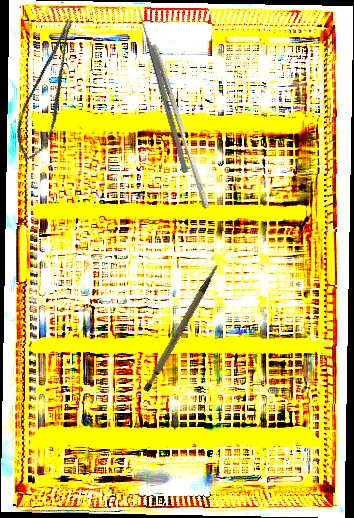Micro Scissor: (4, 16, 98, 165)
Pusher: (144, 43, 216, 210), (135, 4, 189, 174)
Scalpel Handle: (128, 263, 238, 394)
